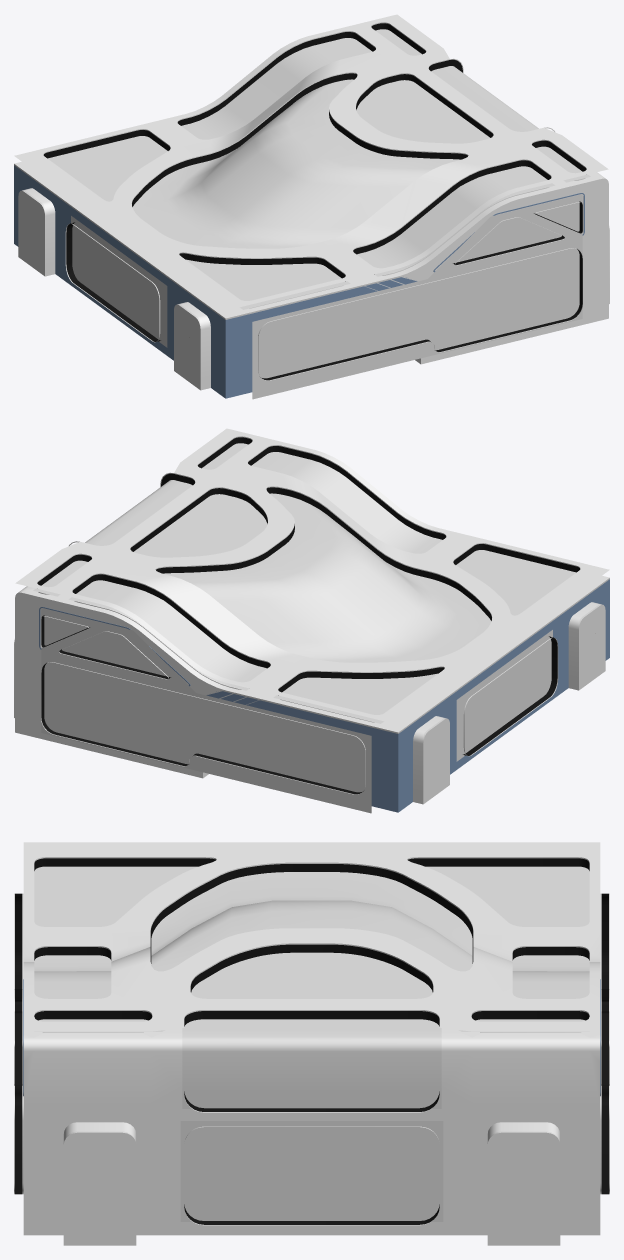
The picture shows the model from 3 angles, top to bottom: view 1: azimuth 30°, elevation 25°; view 2: azimuth 150°, elevation 25°; view 3: azimuth 270°, elevation 25°; orthographic projection. The views are drawn at different scales.
Parts seen in each view (by area): view 1: Plane.001, Plane.017, Plane.010, Plane, Plane.014, Plane.012, Plane.013, Plane.015, Plane.011; view 2: Plane.001, Plane.017, Plane.010, Plane, Plane.014, Plane.012, Plane.013, Plane.015, Plane.011; view 3: Plane.001, Plane, Plane.016, Plane.011, Plane.010, Plane.012, Plane.013, Plane.014.
Part boxes in pixels (bbox=[...]): Plane.001: bbox=[14, 14, 608, 318]; Plane.017: bbox=[252, 194, 582, 399]; Plane.010: bbox=[132, 79, 460, 248]; Plane: bbox=[14, 164, 609, 398]; Plane.014: bbox=[181, 38, 554, 276]; Plane.012: bbox=[47, 136, 350, 309]; Plane.013: bbox=[356, 29, 590, 182]; Plane.015: bbox=[71, 216, 167, 347]; Plane.011: bbox=[431, 66, 538, 131]; Plane.001: bbox=[15, 428, 609, 732]; Plane.017: bbox=[41, 608, 371, 813]; Plane.010: bbox=[163, 493, 491, 662]; Plane: bbox=[14, 578, 609, 812]; Plane.014: bbox=[69, 452, 442, 690]; Plane.012: bbox=[273, 550, 576, 723]; Plane.013: bbox=[33, 443, 267, 596]; Plane.015: bbox=[456, 630, 552, 761]; Plane.011: bbox=[85, 480, 192, 545]; Plane.001: bbox=[14, 842, 609, 1112]; Plane: bbox=[14, 893, 609, 1245]; Plane.016: bbox=[180, 1121, 443, 1221]; Plane.011: bbox=[182, 1019, 441, 1108]; Plane.010: bbox=[151, 872, 472, 971]; Plane.012: bbox=[34, 866, 589, 926]; Plane.013: bbox=[34, 952, 589, 1031]; Plane.014: bbox=[34, 955, 589, 998].
Bounding box in the file's own units: 1604 × 558 × 1483.
